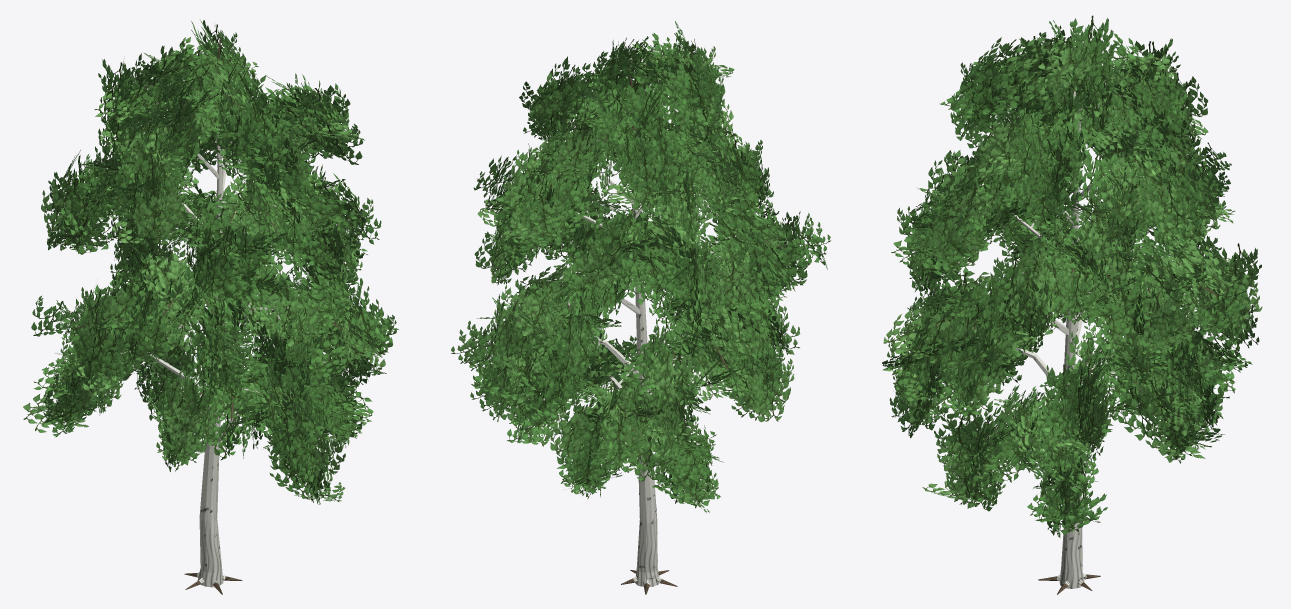
Rendered from birch_mature_atlas_8000.glb.
3 renders of one model, left to right at view 1: azimuth 30°, elevation 25°; view 2: azimuth 150°, elevation 25°; view 3: azimuth 270°, elevation 25°, orthographic. The views are drawn at different scales.
Parts seen in each view (by area): view 1: Birch_mature_atlas_8000; view 2: Birch_mature_atlas_8000; view 3: Birch_mature_atlas_8000.
Boxes of the visible parts, box(x1,y1,x2,y2) form: Birch_mature_atlas_8000: box(23, 20, 398, 594); Birch_mature_atlas_8000: box(451, 21, 830, 594); Birch_mature_atlas_8000: box(882, 15, 1262, 594).
Bounding box in the file's own units: 10.82 × 17.74 × 11.55.
4 materials, 4 textured.
